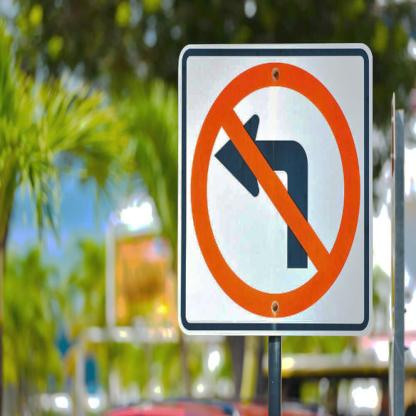No left turn: (181, 55, 366, 339)
